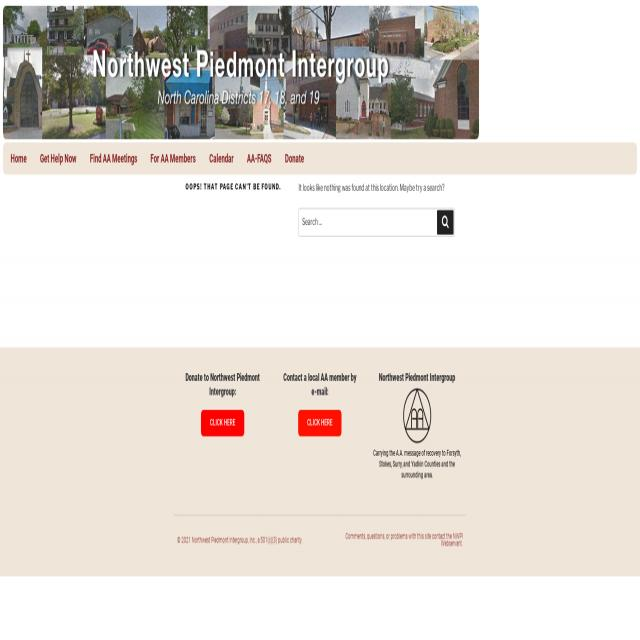button: (402, 387, 432, 445), (84, 145, 143, 172), (144, 144, 202, 171), (34, 145, 82, 172), (201, 410, 245, 437), (298, 410, 342, 437), (203, 145, 239, 172), (241, 145, 277, 172), (278, 145, 310, 172), (5, 145, 32, 172), (437, 211, 453, 235)
field: (298, 208, 454, 236)
